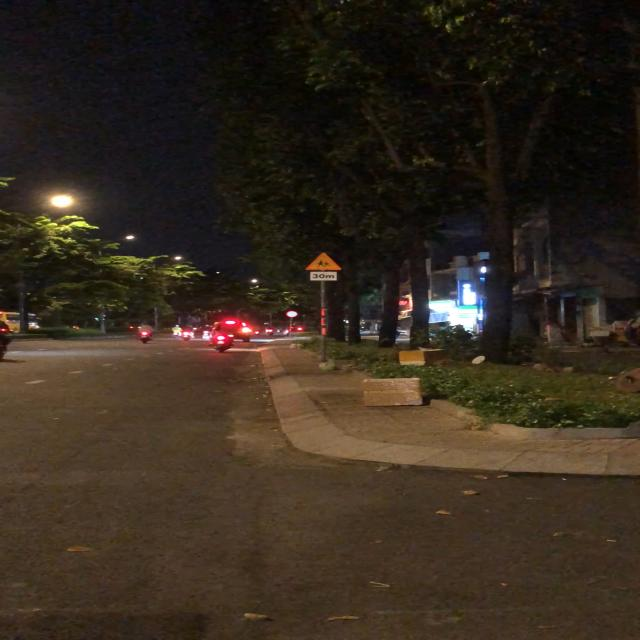Bien bao tre em: (304, 251, 344, 271)
